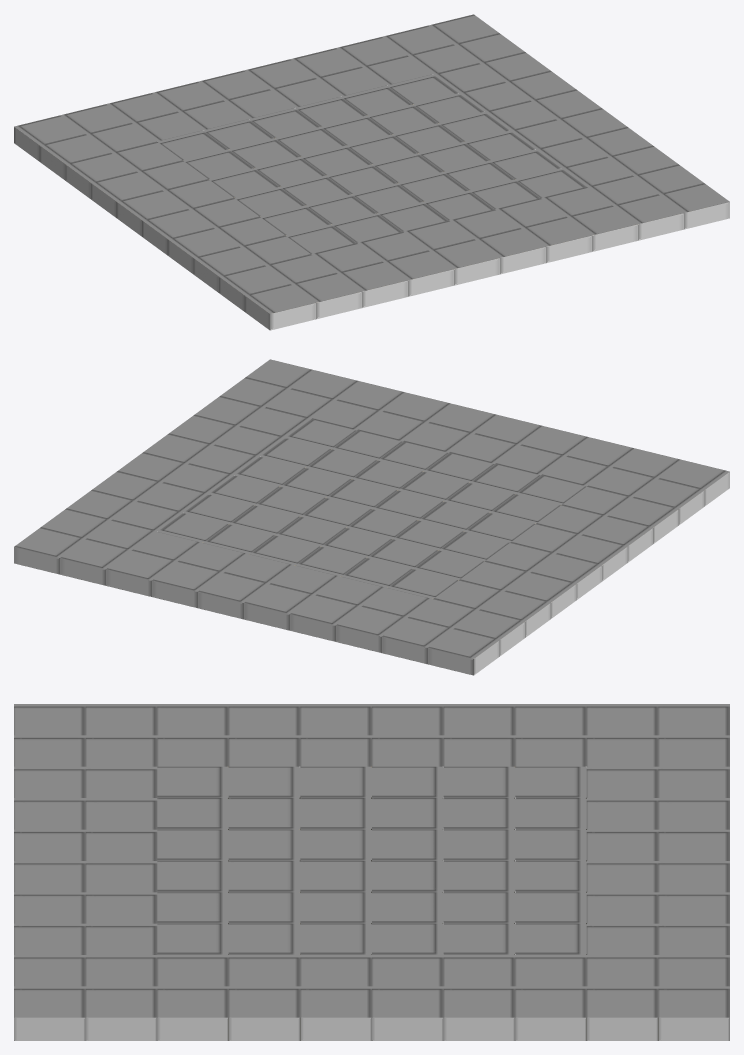
File: roof.fbx
3 renders of one model, top to bottom at view 1: azimuth 30°, elevation 25°; view 2: azimuth 150°, elevation 25°; view 3: azimuth 270°, elevation 25°, orthographic. The views are drawn at different scales.
Parts seen in each view (by area): view 1: Roof; view 2: Roof; view 3: Roof.
Boxes of the visible parts, bbox=[...] form: Roof: bbox=[14, 14, 729, 330]; Roof: bbox=[14, 359, 729, 675]; Roof: bbox=[14, 704, 729, 1040].
Size of the model in its own units: 1630 by 56.26 by 1573.
Materials: 1 (1 with a texture image).
